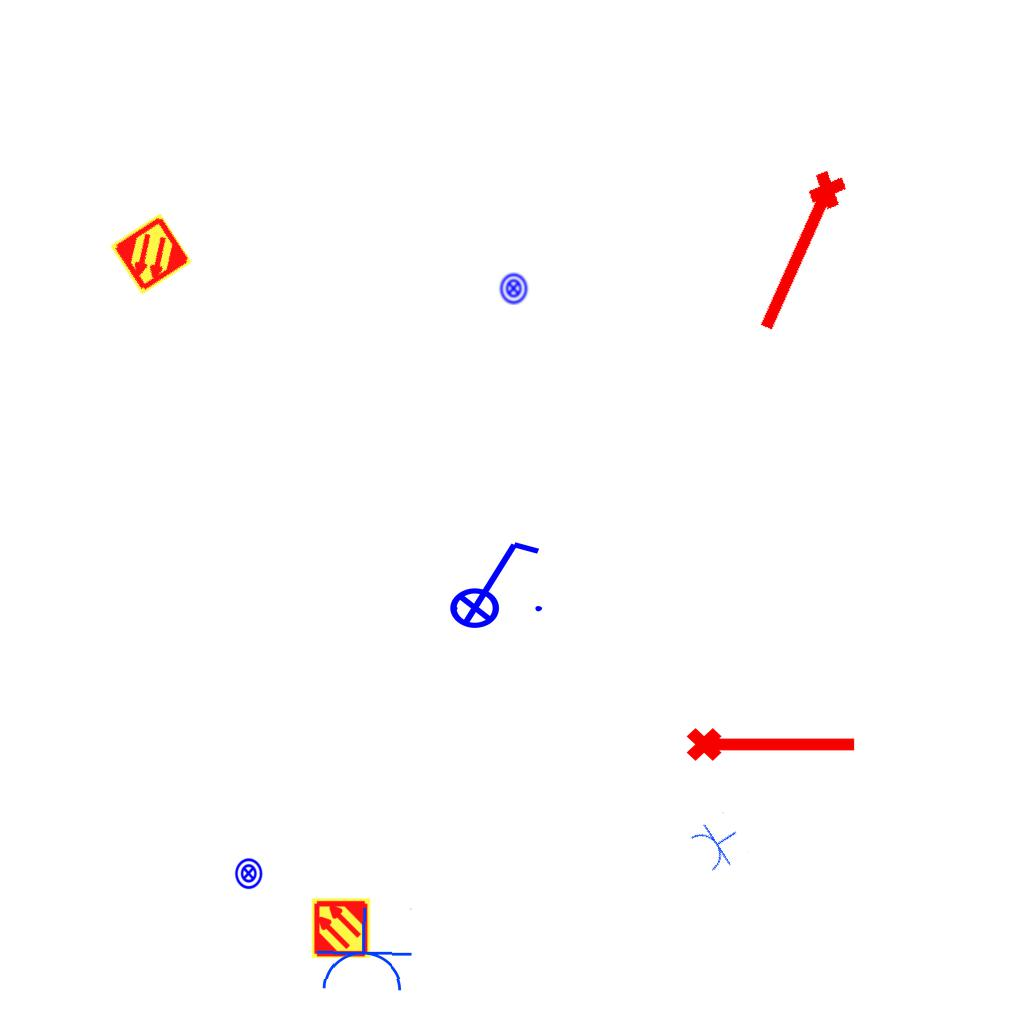ASR_Ansaugoeffnung: (745, 163, 859, 343), (684, 719, 860, 765)
ASR_Ansaugrauchmelder: (108, 211, 194, 297), (310, 897, 372, 959)
Ausschalter_beleuchtet: (436, 534, 548, 630)
Schukosteckdose_einfach: (312, 906, 414, 995), (686, 810, 750, 877)
Taster_beleuchtet: (497, 272, 530, 305), (232, 857, 265, 890)
